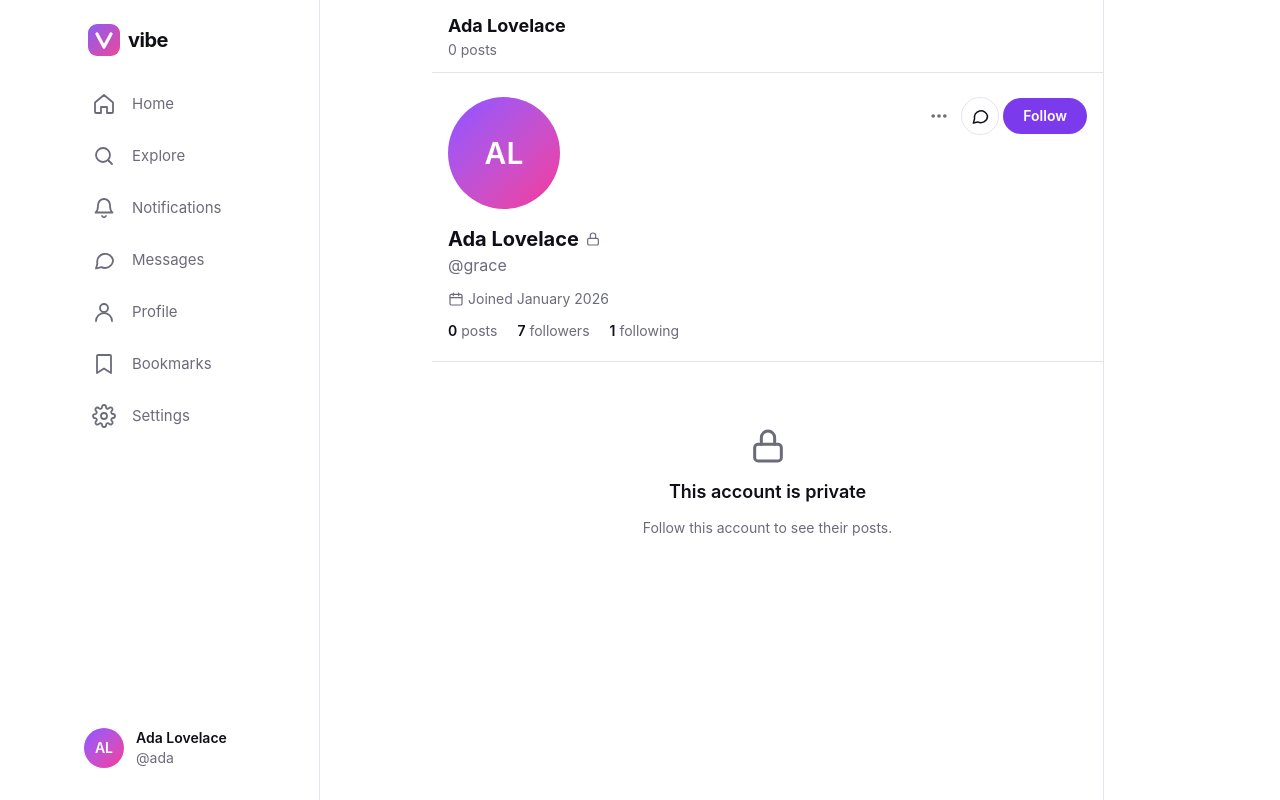
Test case: following from a profile › sends a request to a private account without changing the count
What coordinates should you click on to do the following:
click the button "Follow"
I would click on:
 (1045, 116)
Its box is [1003,98,1087,134].
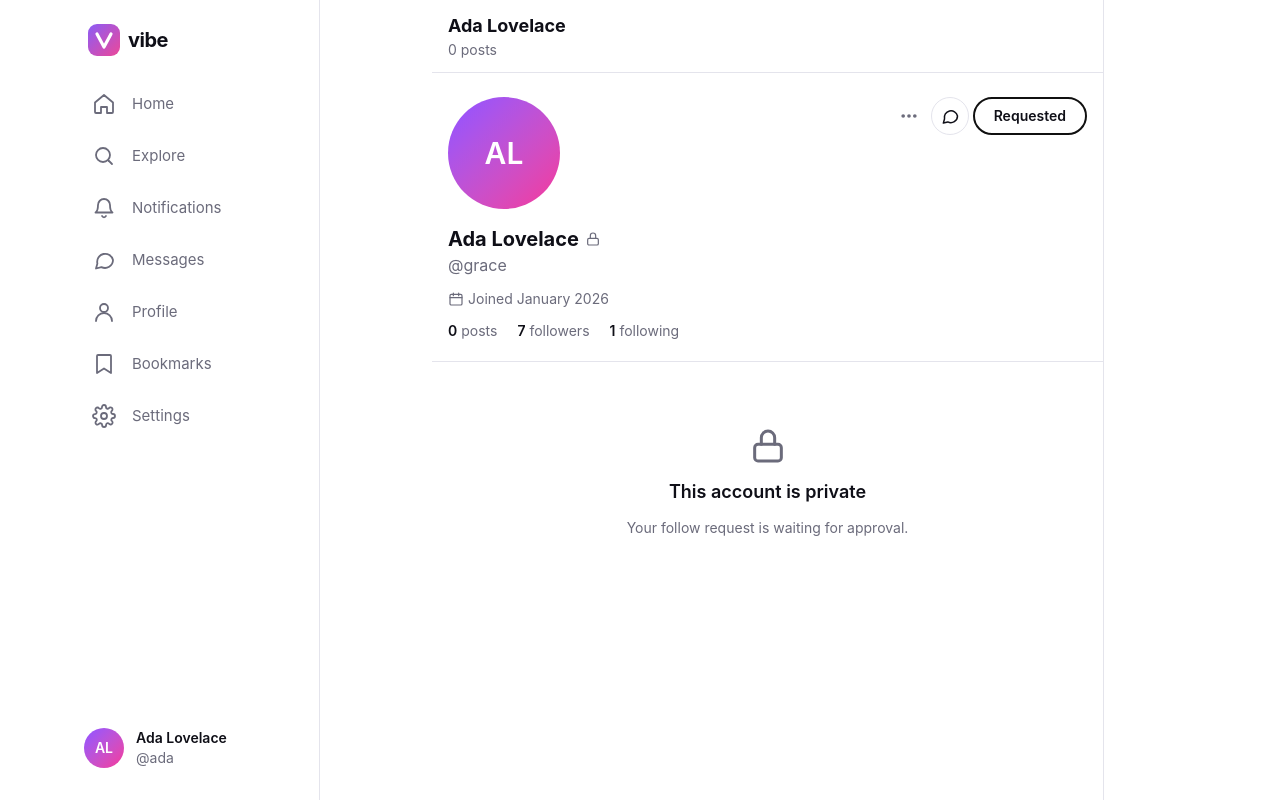
Check: the text "7" is shown, box [517,322,526,339]
Check: the button with aria-label "Cancel follow request" reads "Requested", box [973,97,1087,135]
